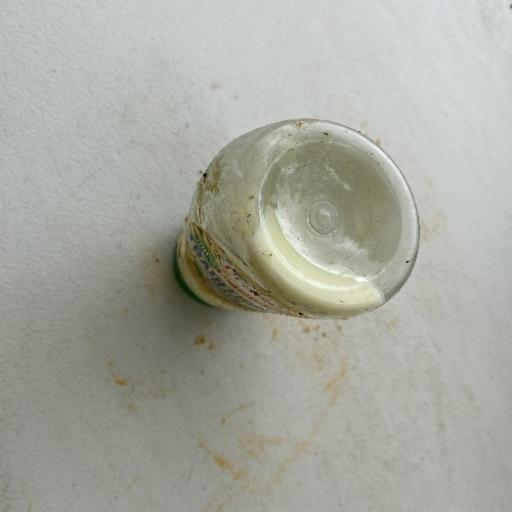Plastic: (169, 114, 423, 324)
